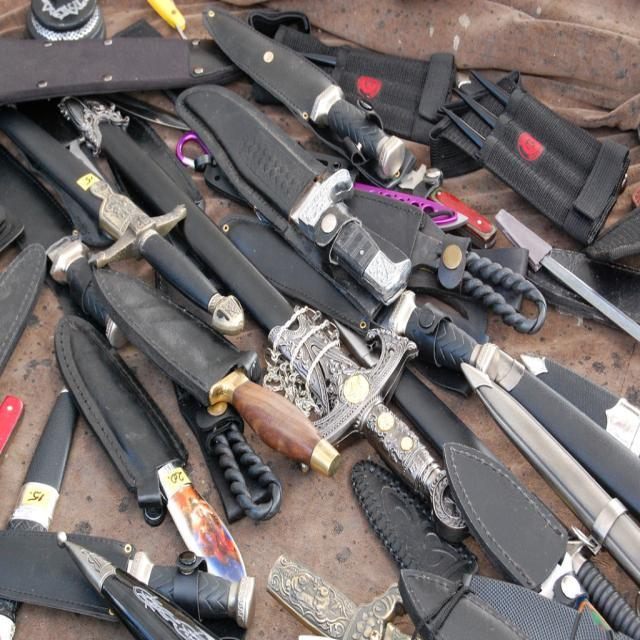Knife: (64, 100, 461, 531), (55, 316, 246, 581), (180, 86, 411, 304), (94, 269, 340, 473), (0, 109, 231, 312), (462, 362, 640, 573), (205, 9, 406, 181), (68, 534, 254, 628), (520, 355, 640, 456), (0, 532, 118, 621), (552, 251, 640, 323), (528, 269, 612, 324)
